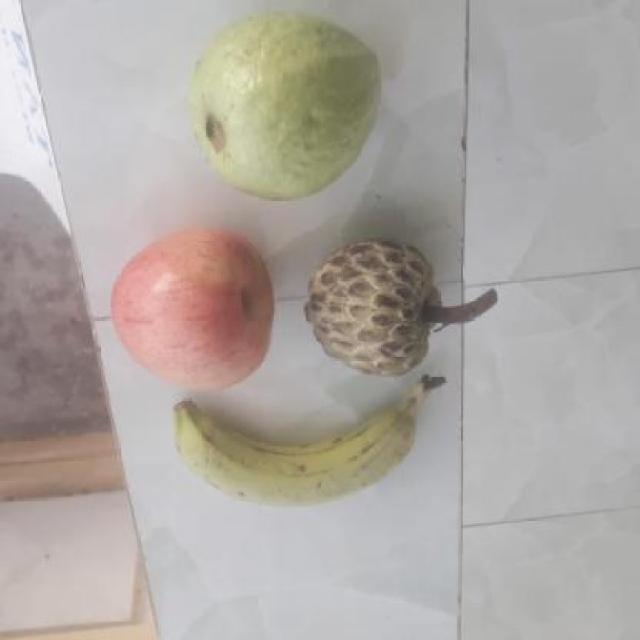apple: (164, 389, 424, 520), (104, 231, 284, 394)
guava: (182, 16, 378, 196)
sugar apple: (298, 237, 438, 374)
